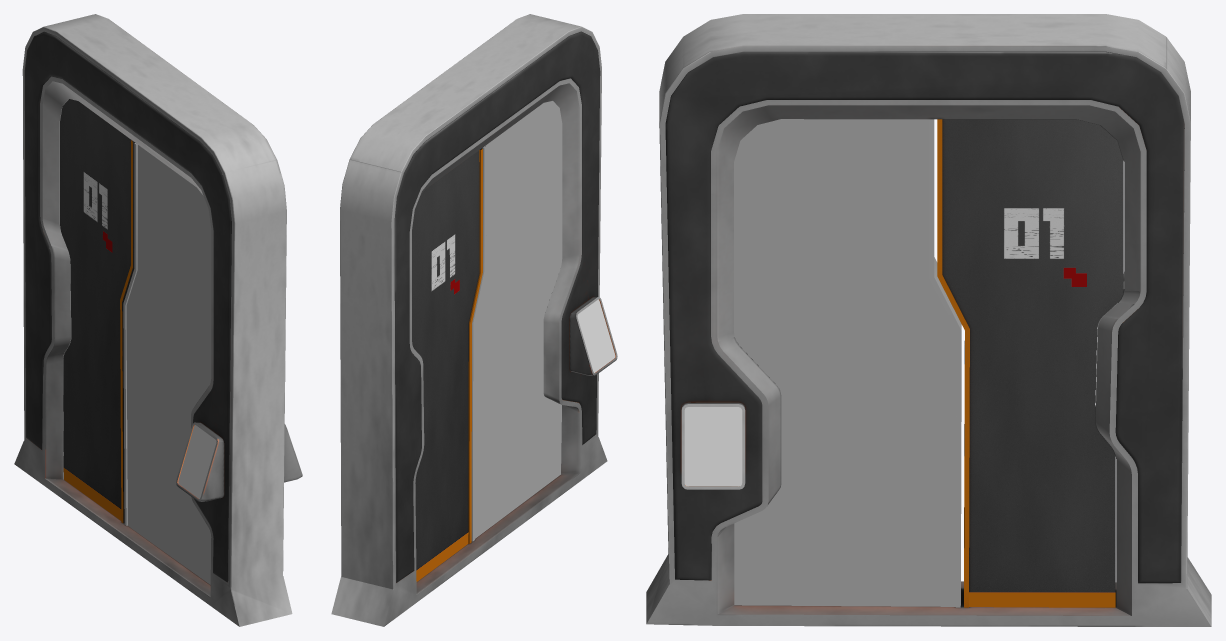
Rendered from porte_V1 (1).fbx.
3 views of the same model, side by side, from view 1: azimuth 30°, elevation 25°; view 2: azimuth 150°, elevation 25°; view 3: azimuth 270°, elevation 25° (orthographic). The views are drawn at different scales.
Visible parts, largest first — view 1: contour porte, porte gauche, porte droite, ecran; view 2: contour porte, porte gauche, porte droite, ecran; view 3: contour porte, porte gauche, porte droite, ecran.
Boxes of the visible parts, left/top/right/bottom form: contour porte: left=14, top=14, right=302, bottom=626; porte gauche: left=123, top=143, right=211, bottom=584; porte droite: left=60, top=99, right=134, bottom=523; ecran: left=178, top=425, right=216, bottom=498; contour porte: left=331, top=14, right=617, bottom=626; porte gauche: left=471, top=101, right=562, bottom=541; porte droite: left=412, top=148, right=482, bottom=581; ecran: left=577, top=299, right=615, bottom=372; contour porte: left=646, top=14, right=1211, bottom=626; porte gauche: left=734, top=119, right=961, bottom=607; porte droite: left=937, top=119, right=1123, bottom=607; ecran: left=684, top=407, right=742, bottom=486.
Size of the model in its own units: 38.64 by 165 by 146.
